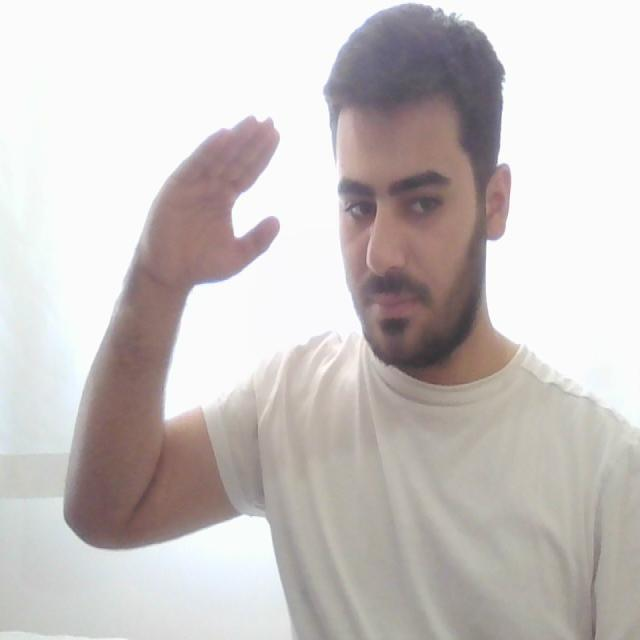Merhaba: (138, 84, 374, 330)
